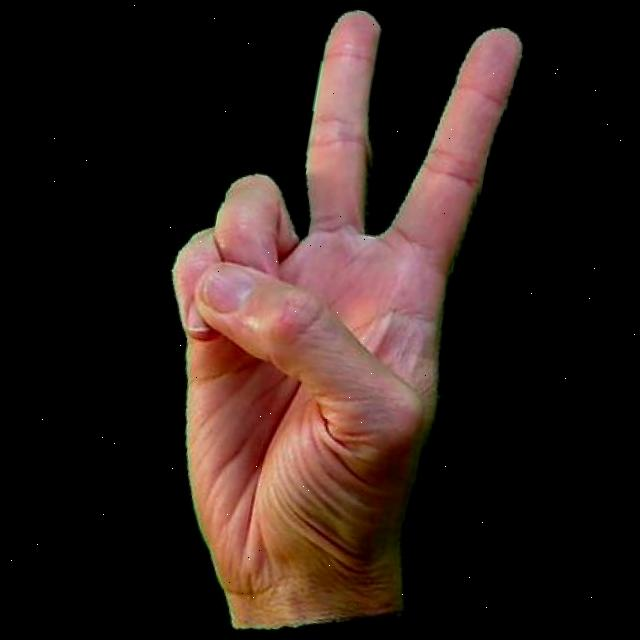v: (98, 0, 538, 640)
